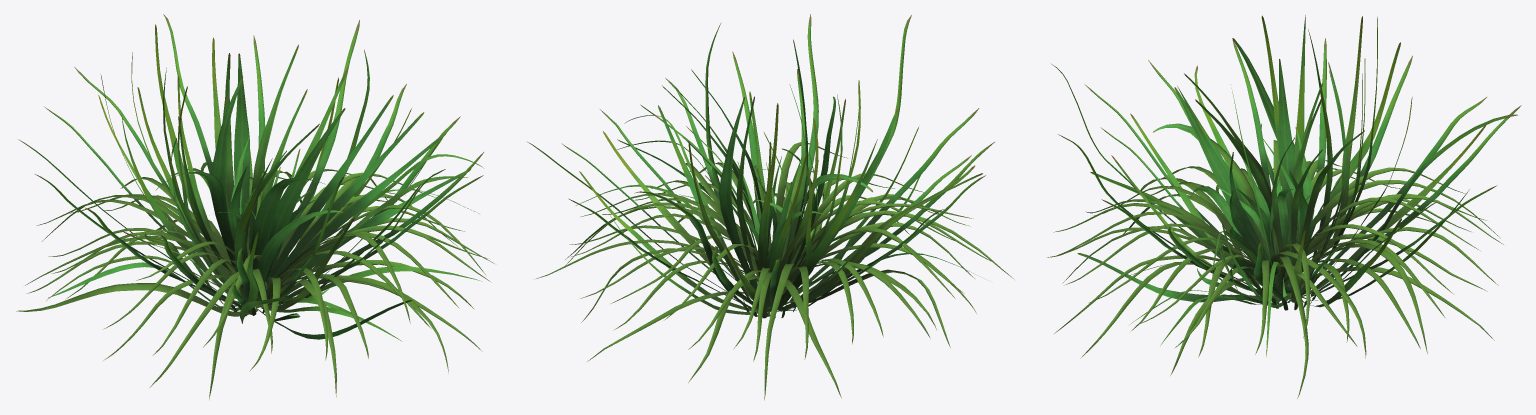
The model's file is Tuft of grass.glb.
3 views of the same model, side by side, from view 1: azimuth 30°, elevation 25°; view 2: azimuth 150°, elevation 25°; view 3: azimuth 270°, elevation 25° (orthographic). The views are drawn at different scales.
Visible parts, largest first — view 1: patch_of_long_grass.1; view 2: patch_of_long_grass.1; view 3: patch_of_long_grass.1.
Boxes of the visible parts, <box> form: patch_of_long_grass.1: <box>16,14,494,399</box>; patch_of_long_grass.1: <box>527,14,1014,400</box>; patch_of_long_grass.1: <box>1047,15,1521,398</box>.
Size of the model in its own units: 0.0829 by 0.0477 by 0.0797.
1 material, 1 textured.
